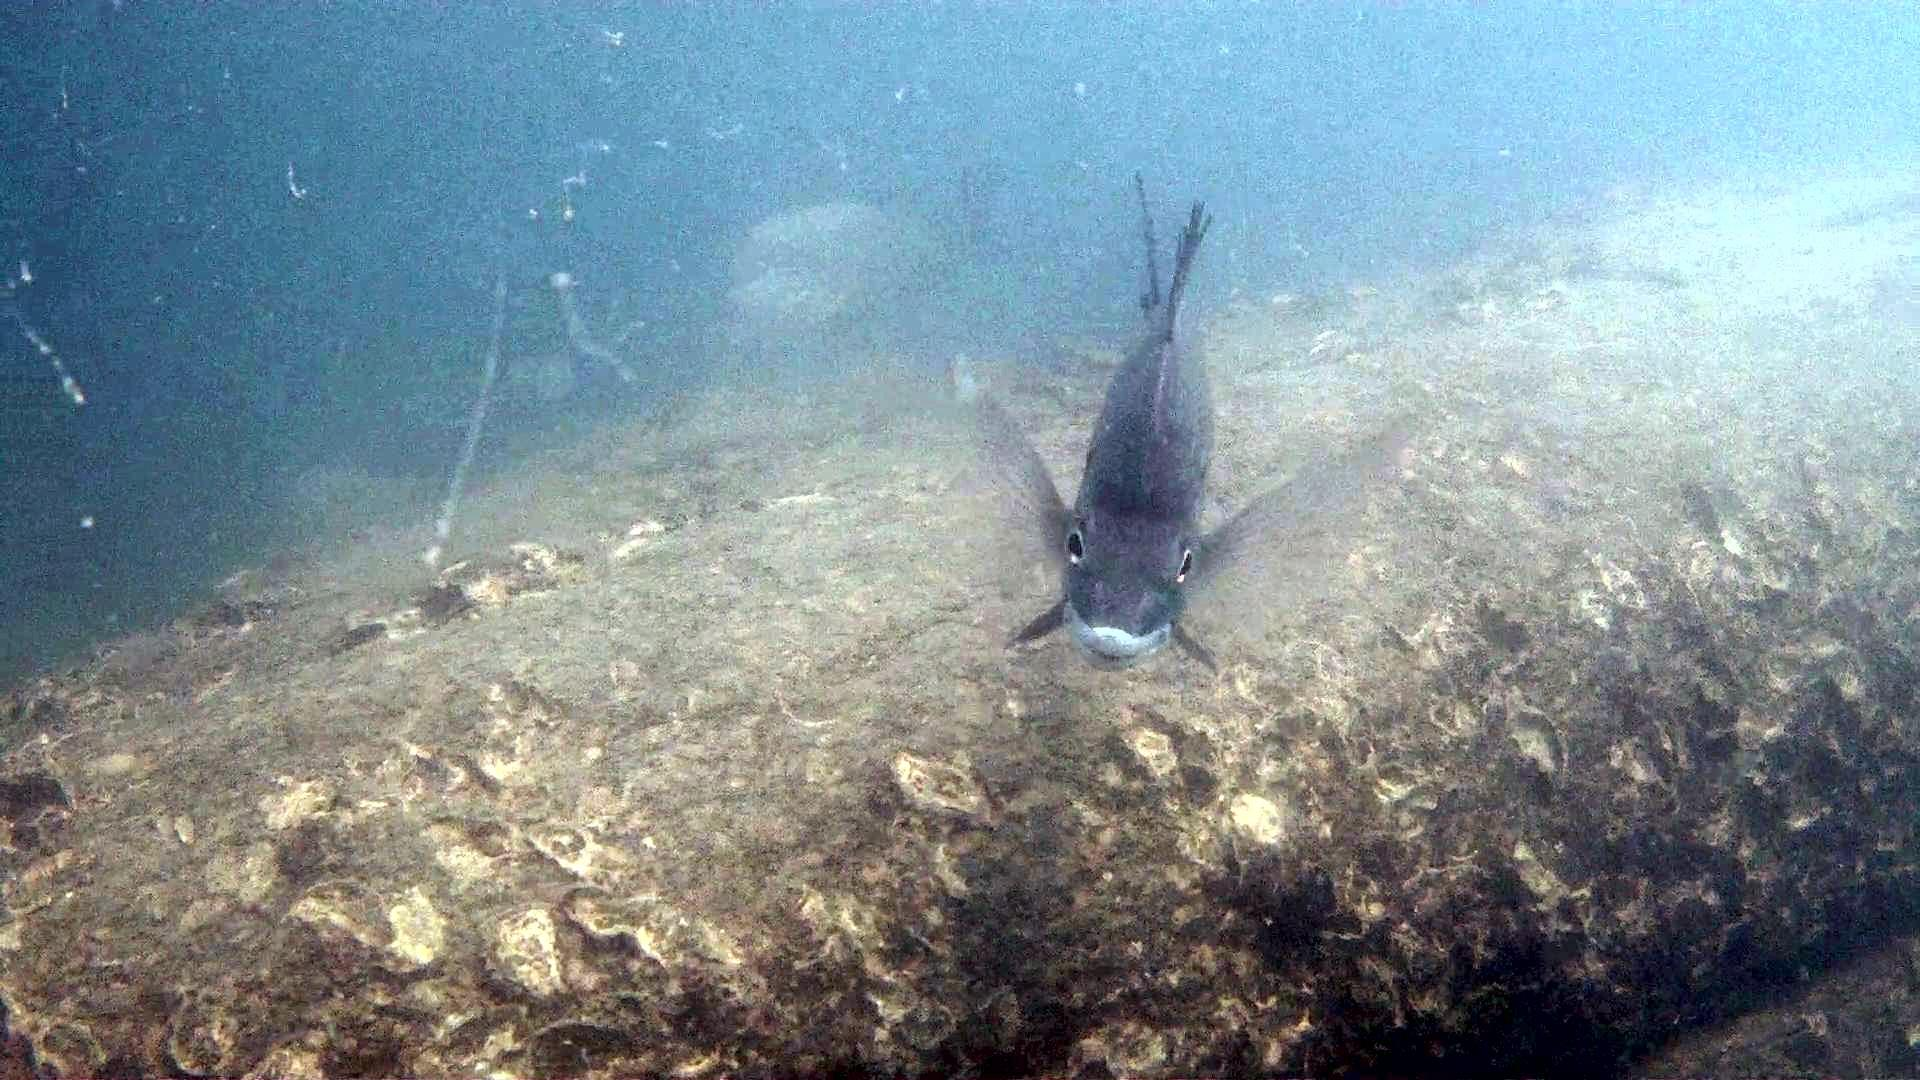acanthopagrus palmaris: (934, 156, 1427, 700)
